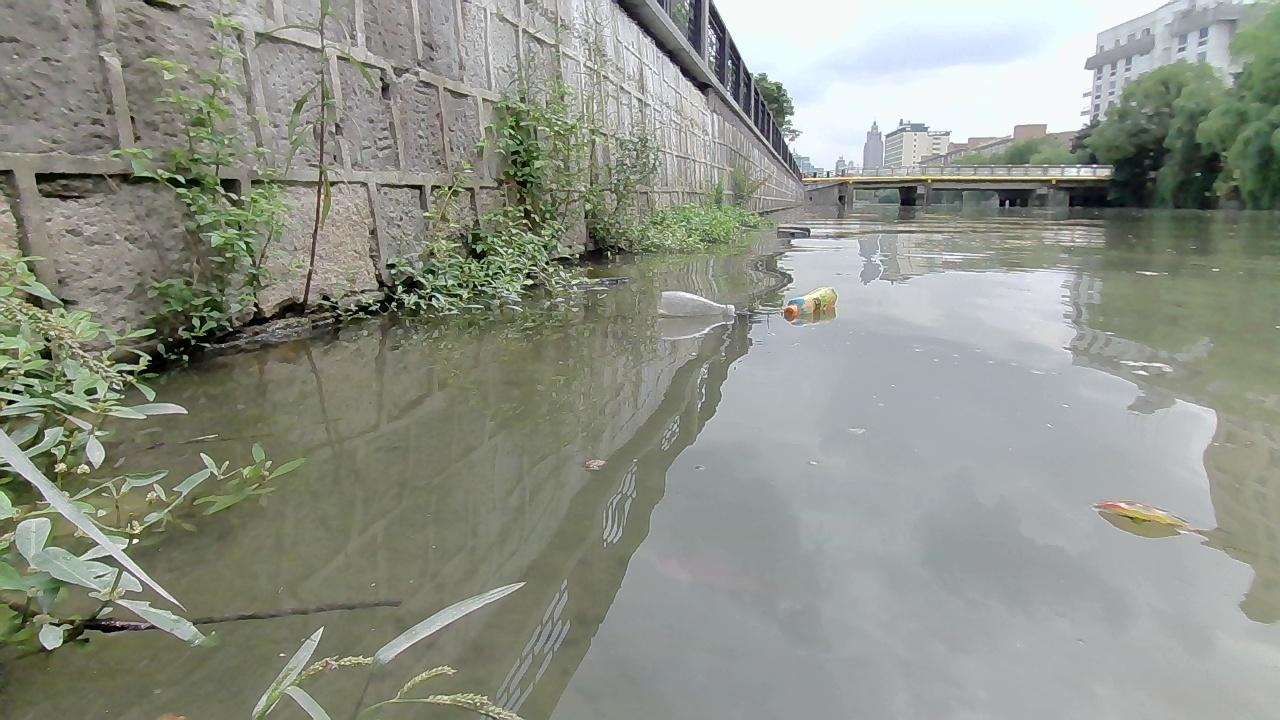bottle: (655, 285, 734, 320), (783, 280, 835, 322)
